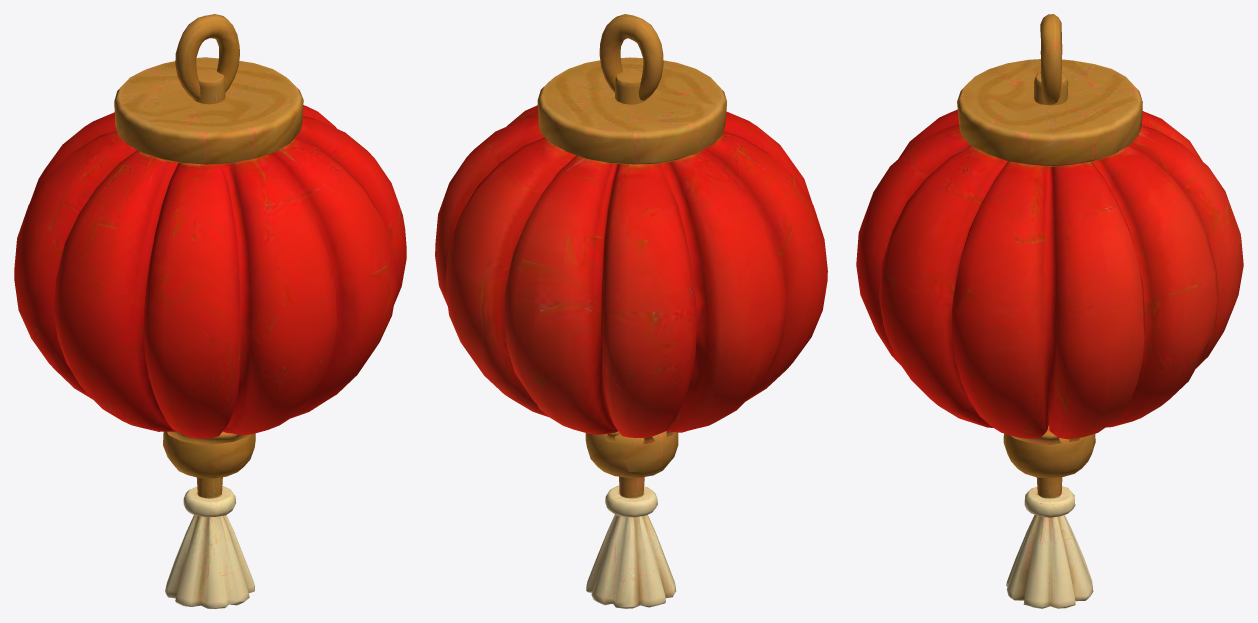
File: fest_lamp.glb
3 views of the same model, side by side, from view 1: azimuth 30°, elevation 25°; view 2: azimuth 150°, elevation 25°; view 3: azimuth 270°, elevation 25° (orthographic).
Bounding box in the file's own units: 0.6125 × 1 × 0.6134.
1 material, 1 textured.
